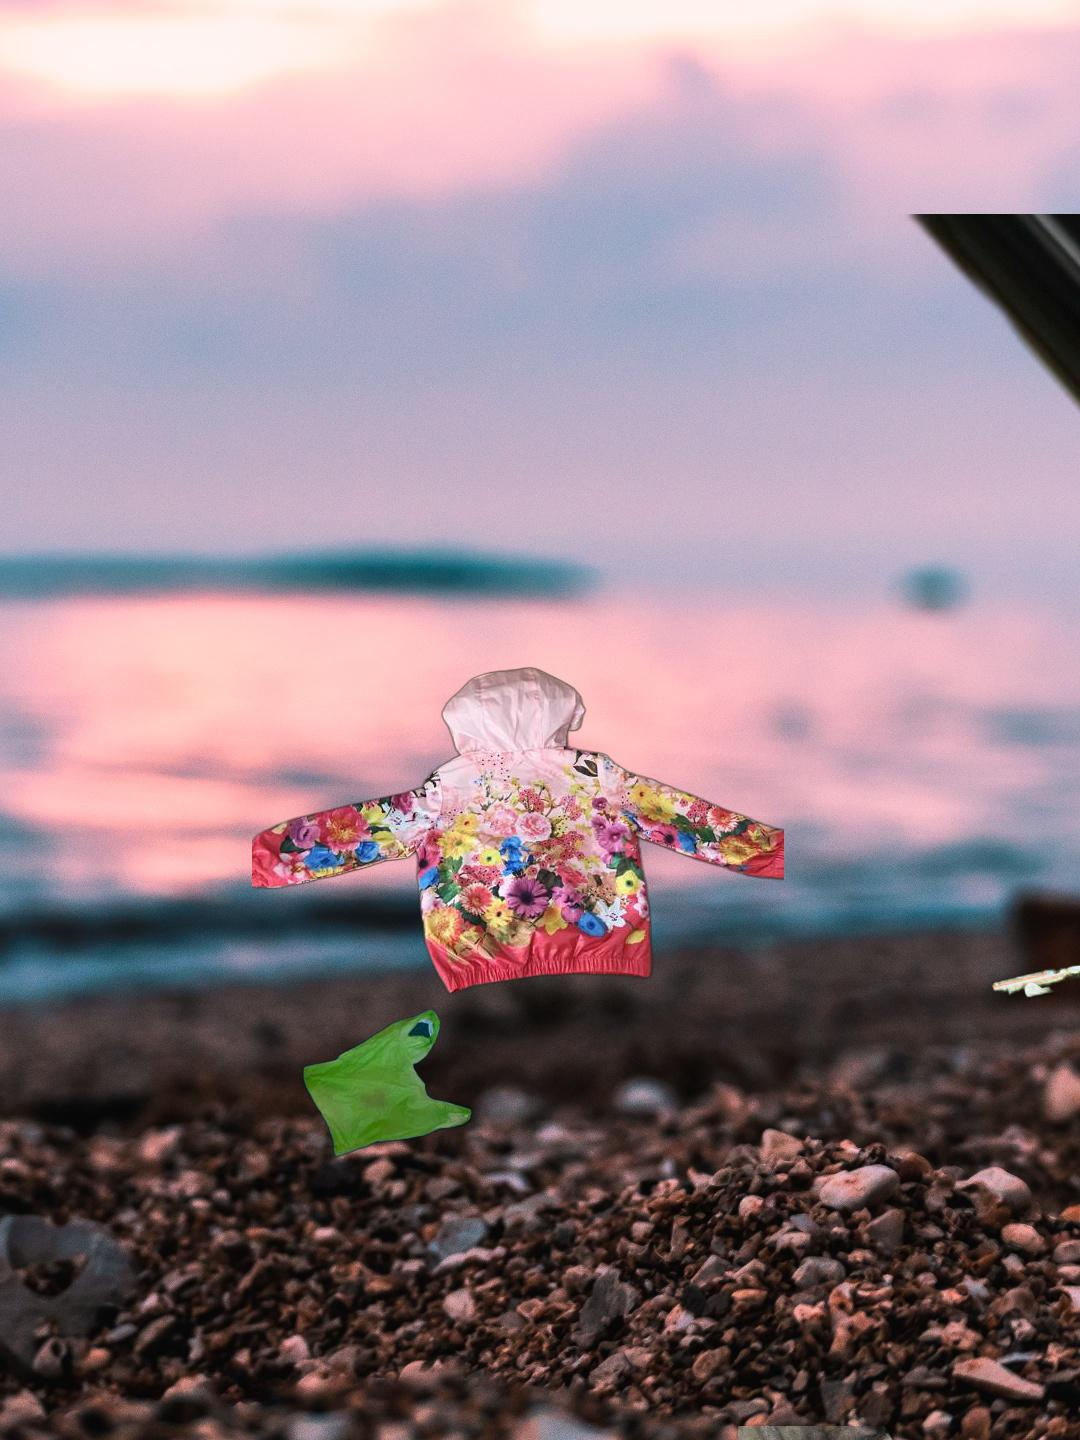clothes: (252, 664, 784, 997)
glass: (988, 956, 1080, 1333)
penholder: (827, 214, 1080, 1395)
plastic-bag: (299, 1007, 473, 1159)
plastic-bottles: (739, 1426, 1080, 1440)
